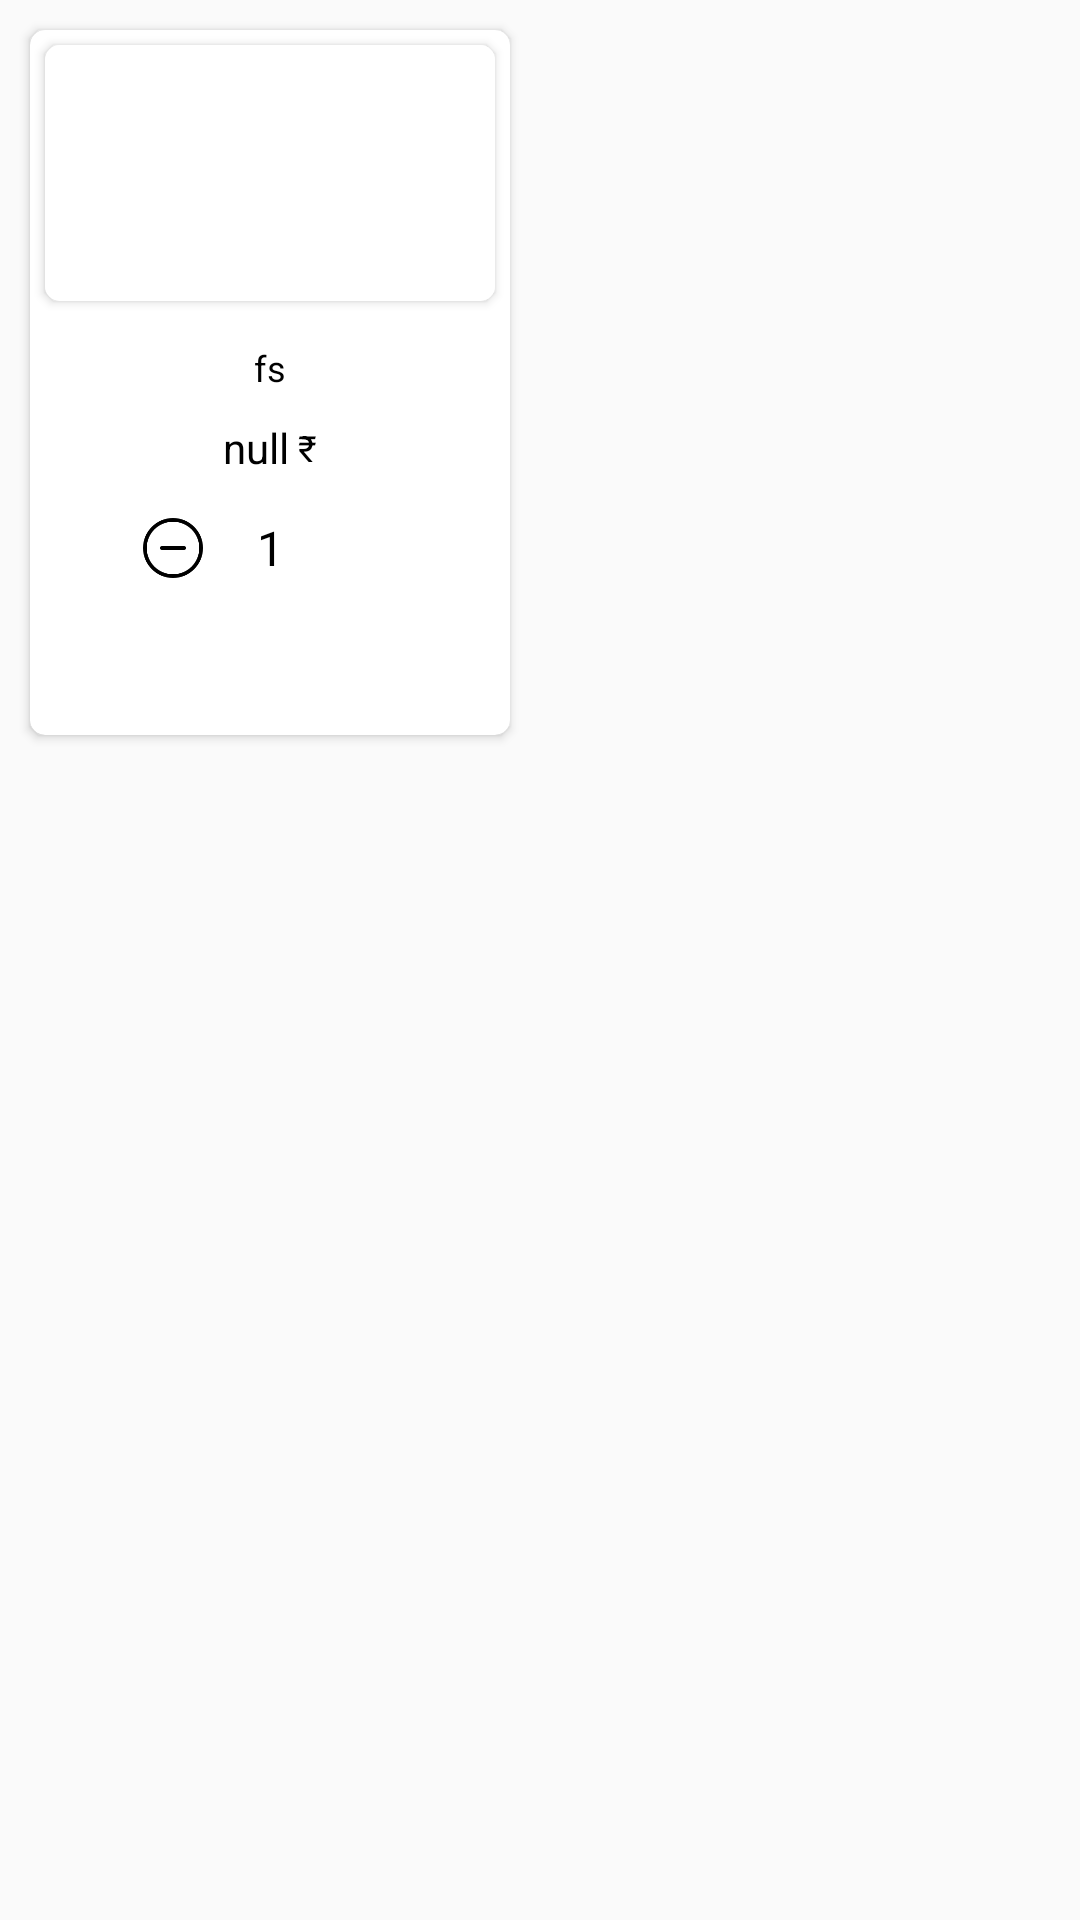

Named icons in this screenshot (1080x1920) and their centers, (x,y):
negative: (173,548)
